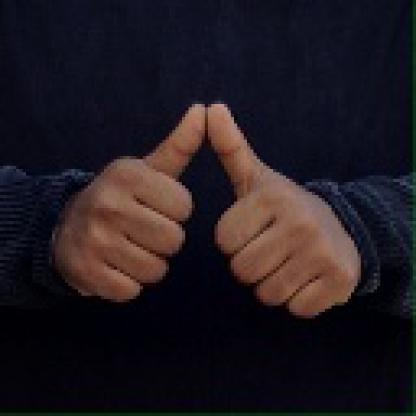A: (57, 96, 364, 318)
